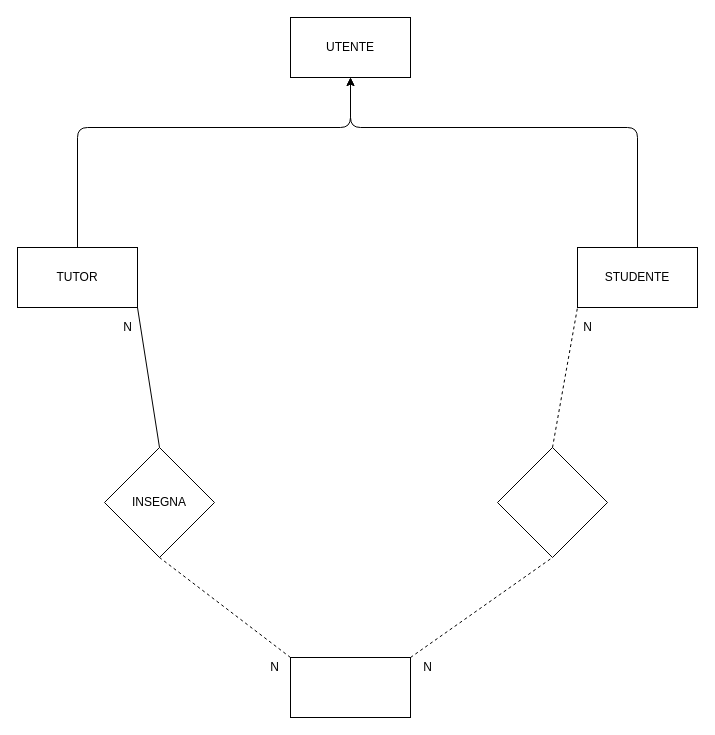
This 715x735 diagram has some shape labels left out. The shapes that lost their labels are listed below. From the top down, each one's centre as x and y in pixels, then its label:
point (552, 502): RICEVE RIPETIZIONI
point (350, 687): MATERIA
